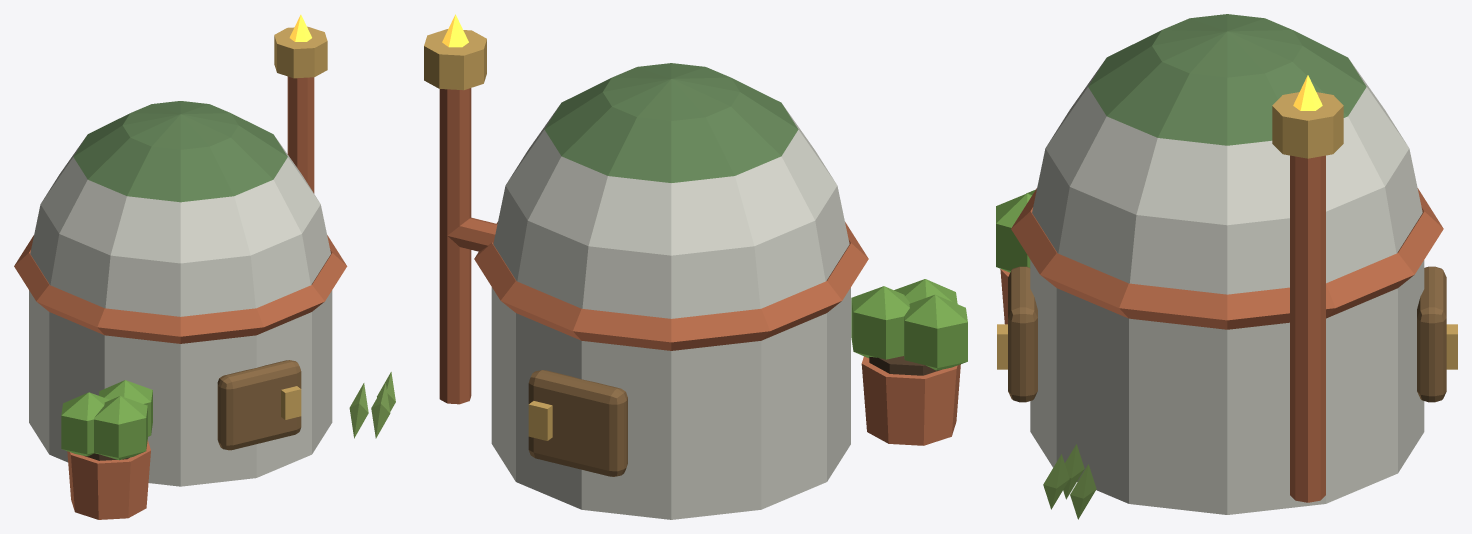
File: digester.glb
3 views of the same model, side by side, from view 1: azimuth 30°, elevation 25°; view 2: azimuth 150°, elevation 25°; view 3: azimuth 270°, elevation 25° (orthographic). The views are drawn at different scales.
Visible parts, largest first — view 1: Digester_living_dome, Digester_ceramic_tank, Digester_copper_belt, Digester_access_hatch, decor_Terracotta_planter, decor_Living_leaves.002, Digester_flare_stack, Digester_flare_cowl, decor_Living_leaves, decor_Living_leaves.001, Digester_hatch_latch, decor_Grass.002 (+1 smaller); view 2: Digester_living_dome, Digester_ceramic_tank, Digester_copper_belt, Digester_flare_stack, Digester_access_hatch.001, decor_Terracotta_planter, decor_Living_leaves, decor_Living_leaves.001, Digester_flare_cowl, Digester_gas_pipe, Digester_hatch_latch.001, decor_Living_leaves.002 (+1 smaller); view 3: Digester_living_dome, Digester_ceramic_tank, Digester_copper_belt, Digester_flare_stack, Digester_flare_cowl, Digester_access_hatch.001, Digester_access_hatch, decor_Living_leaves.002, decor_Grass.001, decor_Grass.002, running_flare, decor_Grass (+1 smaller).
Part boxes in pixels (<box>): Digester_living_dome: <box>30,101,330,316</box>; Digester_ceramic_tank: <box>29,290,332,486</box>; Digester_copper_belt: <box>14,235,347,343</box>; Digester_access_hatch: <box>217,360,301,450</box>; decor_Terracotta_planter: <box>67,440,150,519</box>; decor_Living_leaves.002: <box>94,396,147,460</box>; Digester_flare_stack: <box>287,76,314,193</box>; Digester_flare_cowl: <box>274,26,327,78</box>; decor_Living_leaves: <box>61,392,109,456</box>; decor_Living_leaves.001: <box>99,380,152,436</box>; Digester_hatch_latch: <box>281,386,301,419</box>; decor_Grass.002: <box>371,383,390,438</box>; Digester_living_dome: <box>493,63,849,318</box>; Digester_ceramic_tank: <box>491,287,850,519</box>; Digester_copper_belt: <box>474,222,868,350</box>; Digester_flare_stack: <box>439,88,471,404</box>; Digester_access_hatch.001: <box>528,370,627,476</box>; decor_Terracotta_planter: <box>861,356,960,445</box>; decor_Living_leaves: <box>904,294,967,370</box>; decor_Living_leaves.001: <box>851,286,910,359</box>; Digester_flare_cowl: <box>424,29,486,90</box>; Digester_gas_pipe: <box>447,217,497,251</box>; Digester_hatch_latch.001: <box>528,401,552,440</box>; decor_Living_leaves.002: <box>894,279,957,303</box>; Digester_living_dome: <box>1032,14,1422,294</box>; Digester_ceramic_tank: <box>1030,260,1424,514</box>; Digester_copper_belt: <box>1011,188,1443,329</box>; Digester_flare_stack: <box>1290,155,1325,502</box>; Digester_flare_cowl: <box>1272,92,1343,158</box>; Digester_access_hatch.001: <box>1417,266,1446,402</box>; Digester_access_hatch: <box>1008,266,1037,402</box>; decor_Living_leaves.002: <box>996,193,1031,272</box>; decor_Grass.001: <box>1070,464,1096,519</box>; decor_Grass.002: <box>1043,454,1069,509</box>; running_flare: <box>1293,75,1322,110</box>; decor_Grass: <box>1063,444,1084,499</box>.
Bounding box in the file's own units: 1.81 × 1.68 × 1.55.
